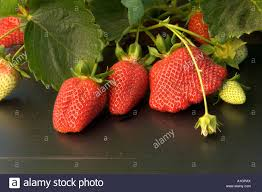ripe: (147, 39, 226, 111), (52, 70, 106, 140), (106, 51, 149, 121), (182, 3, 218, 45), (1, 11, 27, 51)
unripe: (0, 58, 23, 106), (217, 77, 249, 111)
